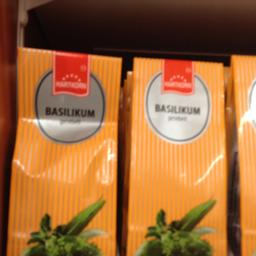spices: (7, 46, 121, 254), (124, 54, 228, 255)
